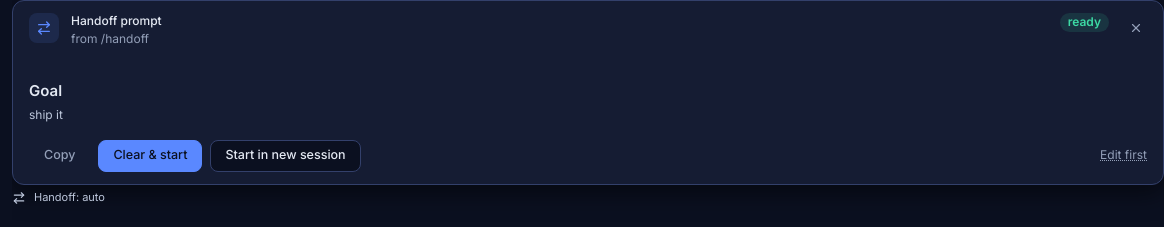
Test: HandoffModeToggle (per session) › shows the session's effective mode and cycles via handoff:set-mode for THIS session only
Click the button with test id "handoff-mode" at (58, 198), box 12,185 -> 105,211
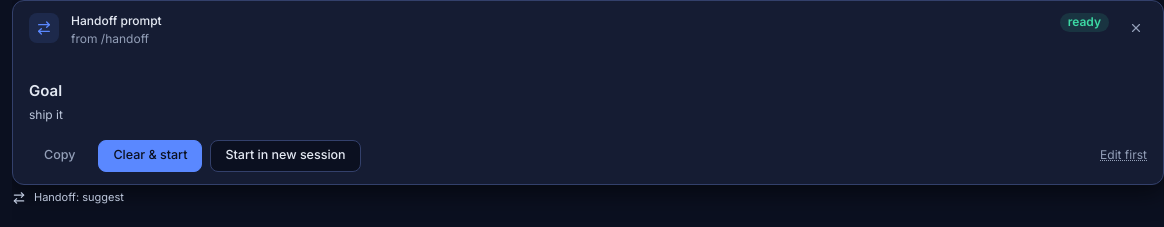
Expected: the button with test id "handoff-mode" reads "Handoff: suggest"
Click the button with test id "handoff-mode" at (68, 198), box 12,185 -> 124,211
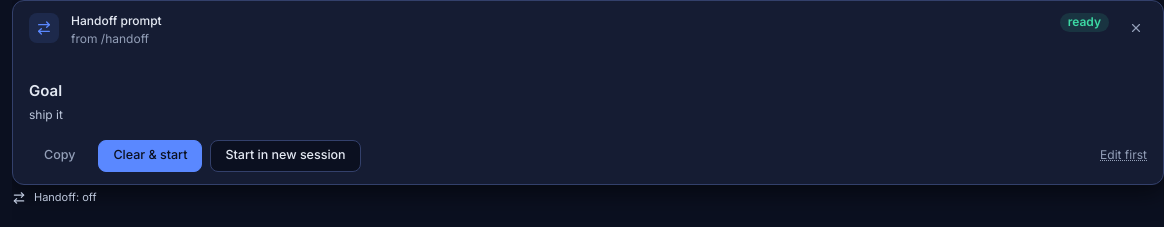
Expected: the button with test id "handoff-mode" reads "Handoff: off"
Click the button with test id "handoff-mode" at (54, 198), box 12,185 -> 96,211
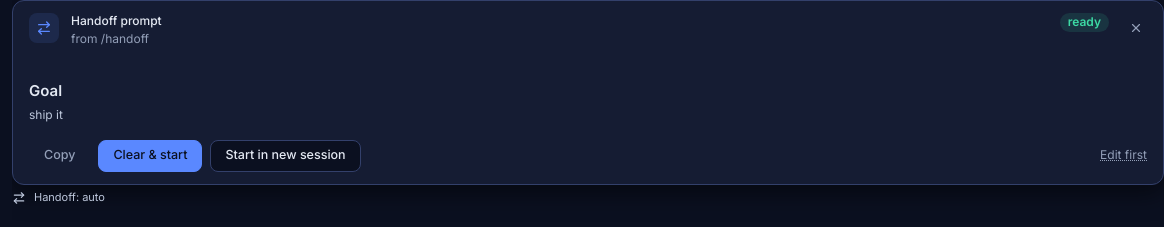
Expected: the button with test id "handoff-mode" reads "Handoff: auto", 12,185 -> 105,211
